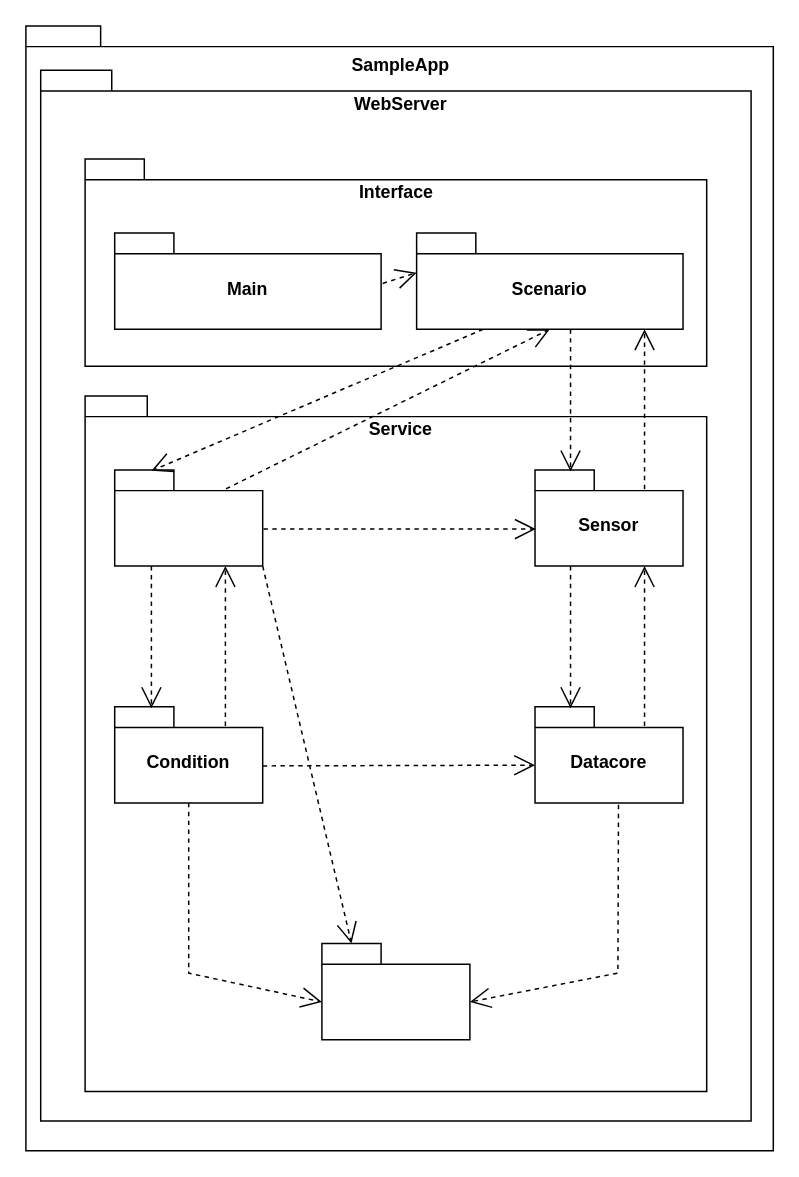
This 799x1177 diagram has some shape labels left out. The shapes that lost their labels are listed below. From the top down, each one's box as (x1, y1, x2, y2) in pixels, then its label:
(113, 468, 263, 566): Actuator
(320, 942, 470, 1040): Action
